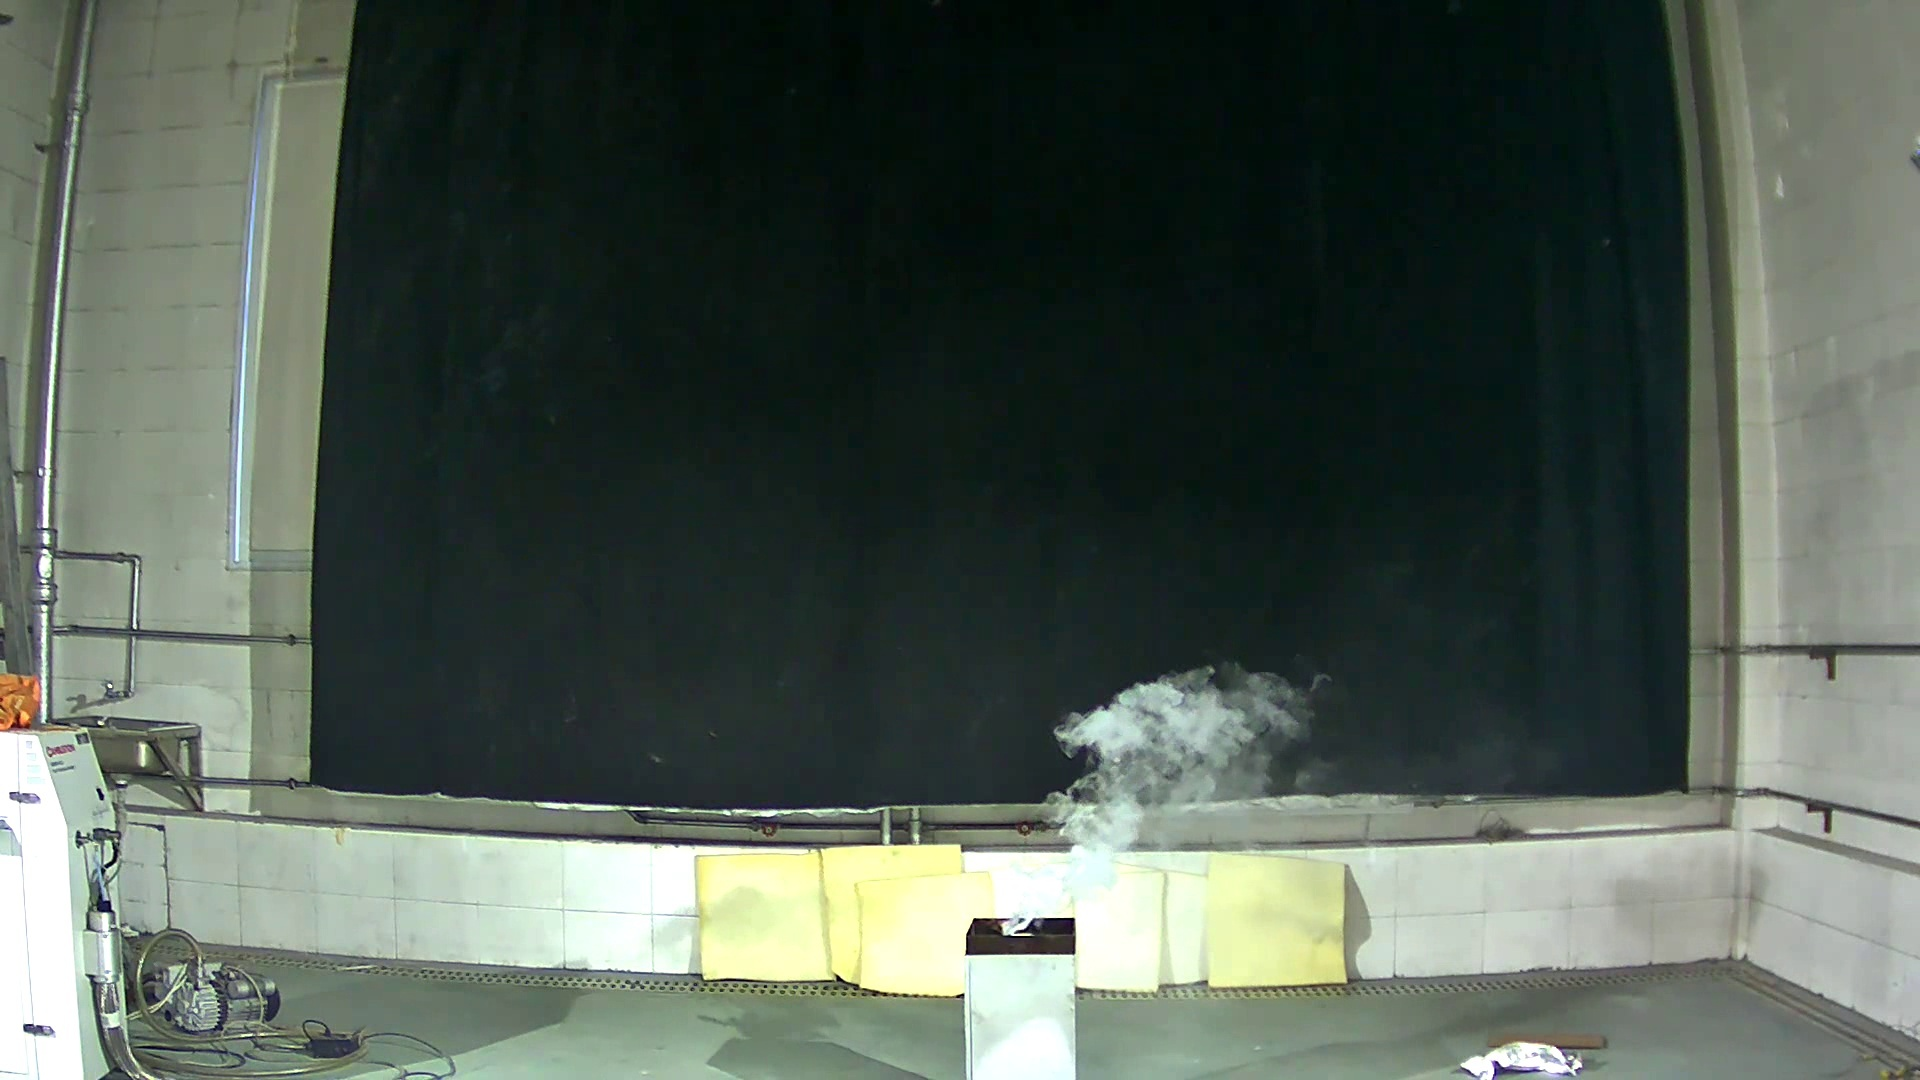smoke: (975, 632, 1308, 932)
